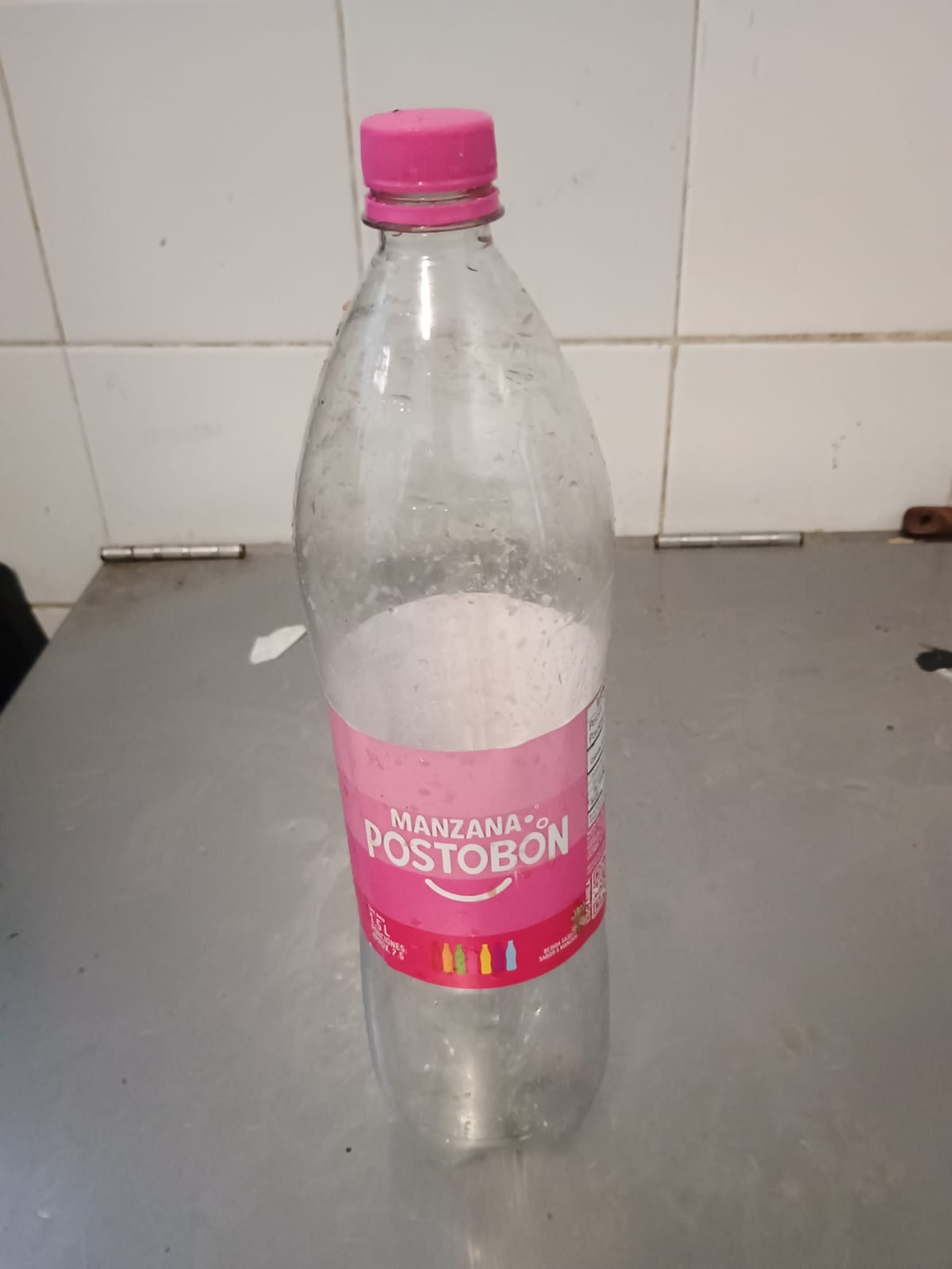Plastico: (292, 112, 621, 1159)
